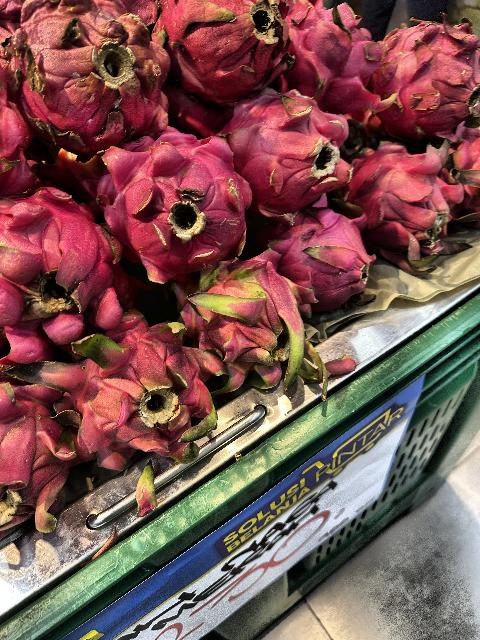buah-naga-belum-matang: (186, 252, 320, 394)
buah-naga-matang: (0, 0, 174, 144), (94, 136, 264, 282), (32, 326, 218, 454), (0, 190, 132, 350), (214, 100, 356, 212), (346, 140, 469, 258), (147, 0, 286, 96), (284, 1, 380, 128), (380, 16, 480, 126), (268, 207, 374, 309)
